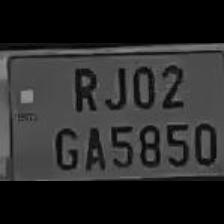0: (190, 116, 218, 166), (128, 60, 154, 108)
2: (156, 60, 186, 110)
5: (162, 118, 190, 168), (106, 120, 134, 168)
8: (136, 120, 160, 168)
A: (81, 120, 105, 170)
G: (50, 122, 80, 170)
J: (100, 62, 127, 113)
R: (68, 61, 99, 113)
